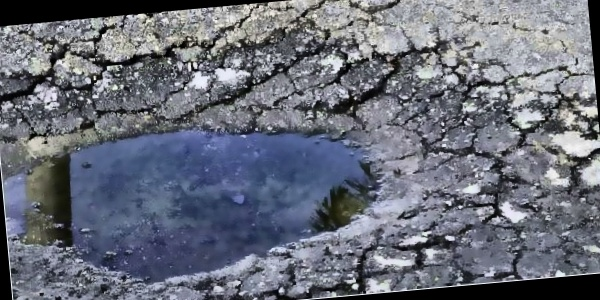pothole: (0, 39, 447, 298)
